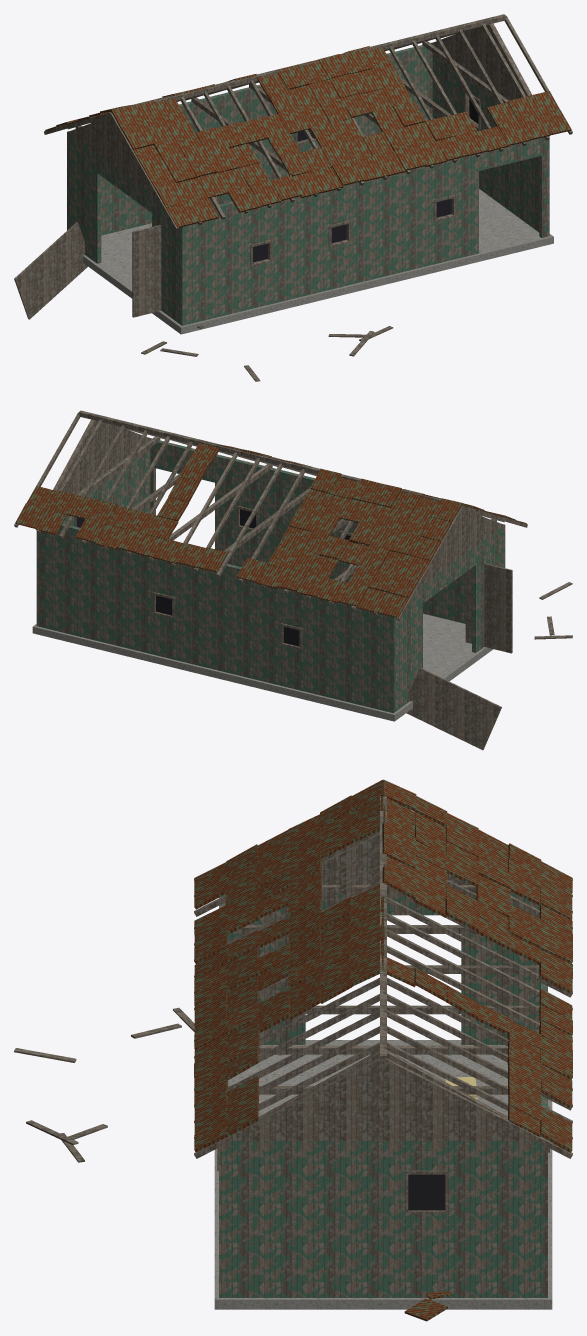
Rendered from barn.glb.
3 views of the same model, one above another, from view 1: azimuth 30°, elevation 25°; view 2: azimuth 150°, elevation 25°; view 3: azimuth 270°, elevation 25° (orthographic). The views are drawn at different scales.
Parts seen in each view (by area): view 1: barn; view 2: barn; view 3: barn.
Part boxes in pixels (x1=…): barn: x1=14, y1=14, x2=572, y2=381; barn: x1=14, y1=410, x2=572, y2=750; barn: x1=14, y1=779, x2=572, y2=1321.
Bounding box in the file's own units: 18.39 × 8 × 12.92.
6 materials, 4 textured.
